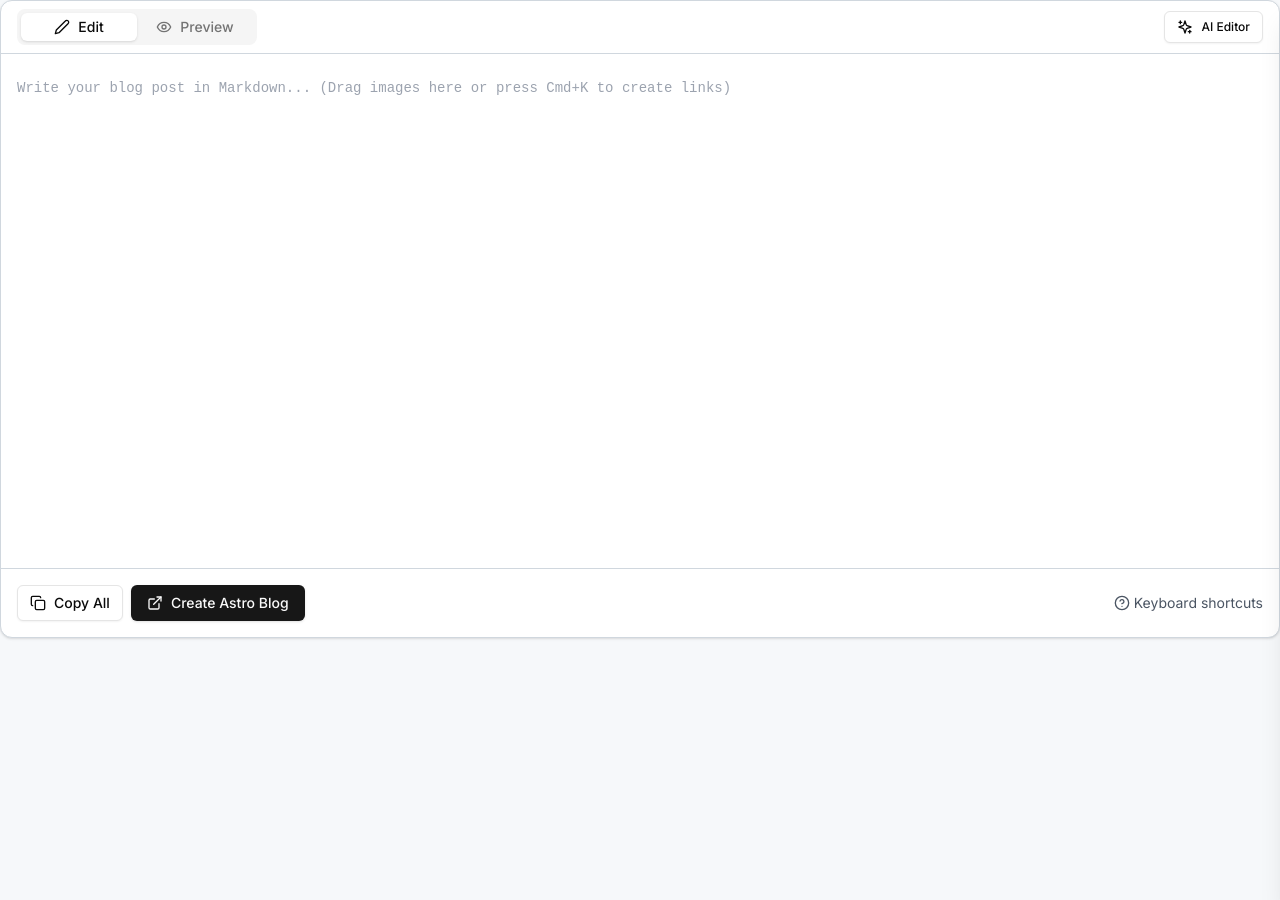
Test case: EnhancedMarkdownEditor › Keyboard Shortcuts Dialog › should open shortcuts dialog when clicking help link
This screenshot has width=1280, height=900.
Click the button "Keyboard shortcuts" at (1188, 603), box [1114,593,1263,613]
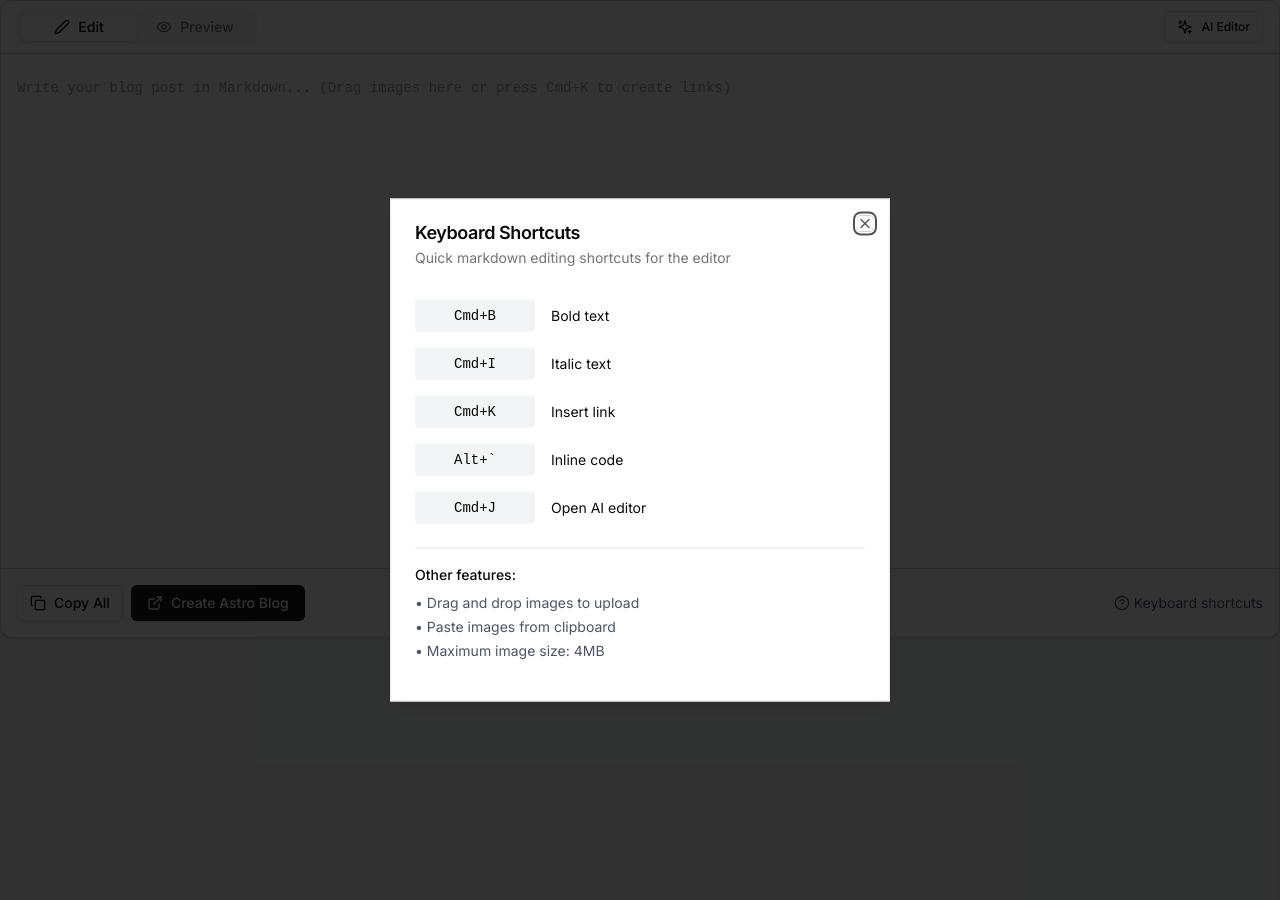
Expected: the heading "Keyboard Shortcuts" is shown, [415,222,580,242]
Expected: the text "Cmd+B" is shown, [415,300,535,332]
Expected: the text "Bold text" is shown, [551,306,609,324]
